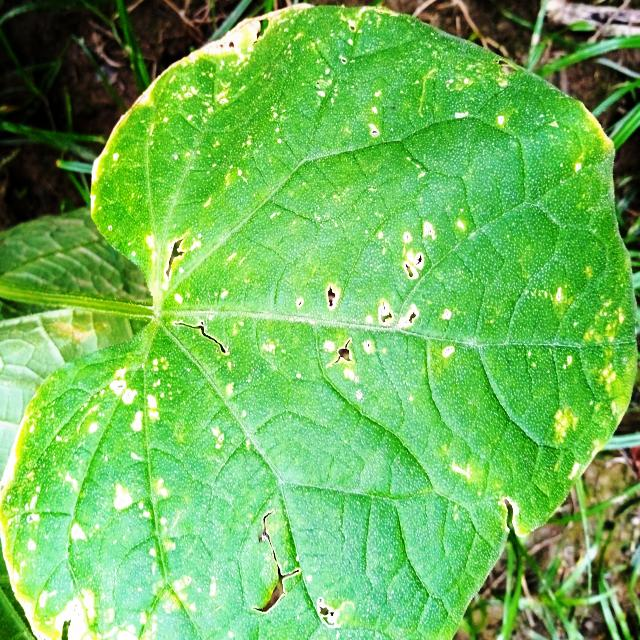Anthracnose: (322, 246, 428, 367), (162, 234, 192, 285)
